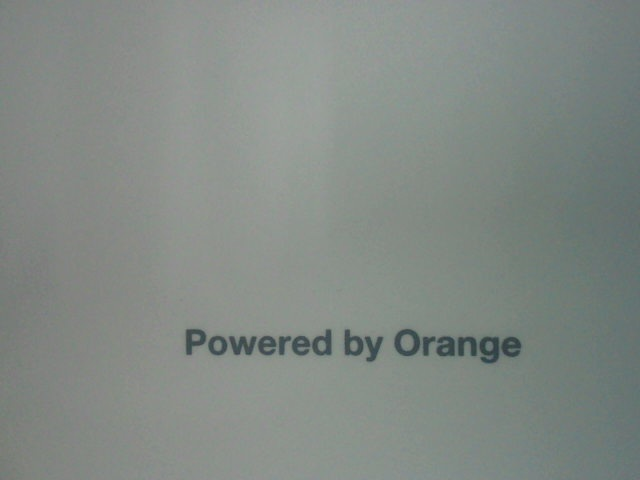AS_PowerByOrange: (175, 318, 528, 370)
